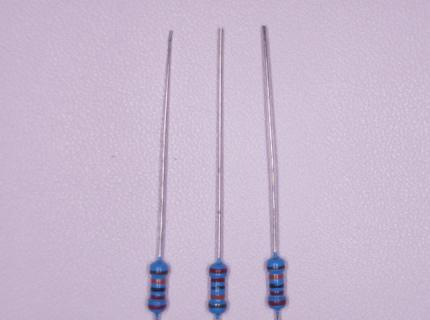Black band: (151, 287, 166, 292), (269, 283, 284, 288), (211, 286, 225, 289)
Brown band: (267, 265, 285, 270), (150, 271, 169, 275), (209, 304, 227, 308)
Orange band: (151, 279, 166, 284), (269, 275, 283, 280), (212, 295, 225, 300)
Red band: (269, 299, 286, 306), (210, 268, 227, 274), (148, 305, 166, 309), (151, 295, 165, 300), (211, 278, 225, 282), (270, 291, 284, 295)
